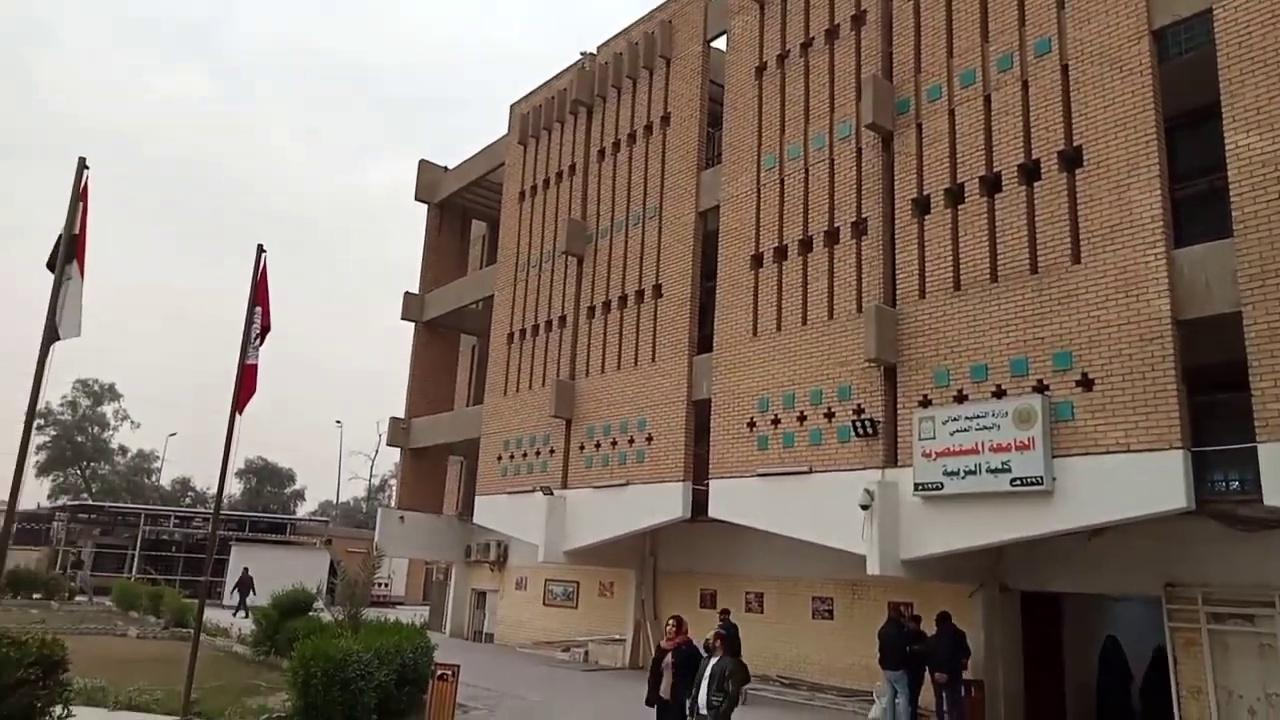person: (643, 614, 702, 719), (688, 628, 750, 719), (926, 610, 971, 719), (876, 605, 914, 719), (903, 613, 928, 719), (229, 566, 256, 618), (715, 607, 741, 657)
tree: (248, 543, 438, 718), (280, 613, 437, 718), (31, 375, 142, 504), (0, 616, 76, 718), (247, 580, 324, 660), (327, 543, 385, 631), (226, 454, 306, 516), (346, 424, 390, 523), (109, 578, 196, 628), (113, 444, 162, 504), (347, 468, 394, 516), (166, 474, 213, 509), (159, 585, 195, 628), (3, 563, 41, 599), (109, 578, 142, 613), (39, 568, 67, 599)
